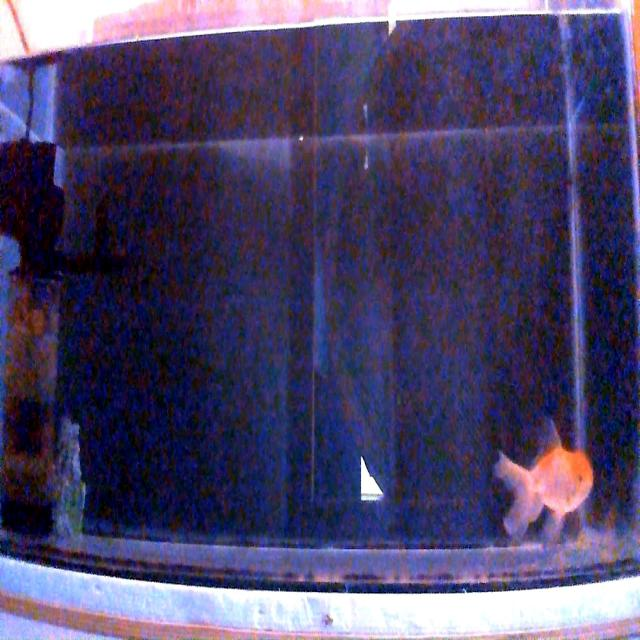fish: (492, 423, 594, 542)
